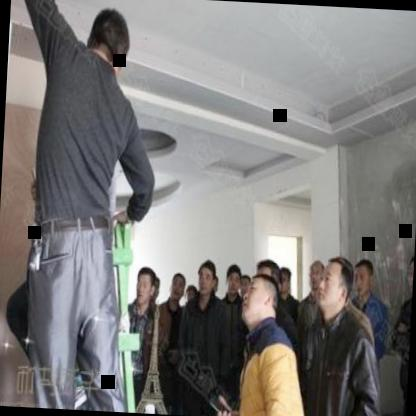head: (84, 2, 134, 80), (315, 251, 354, 319), (242, 270, 279, 330), (133, 260, 163, 308), (351, 250, 378, 301), (192, 256, 216, 300), (166, 268, 188, 306), (222, 262, 242, 302), (306, 256, 324, 296), (275, 264, 296, 298), (404, 248, 414, 298)
